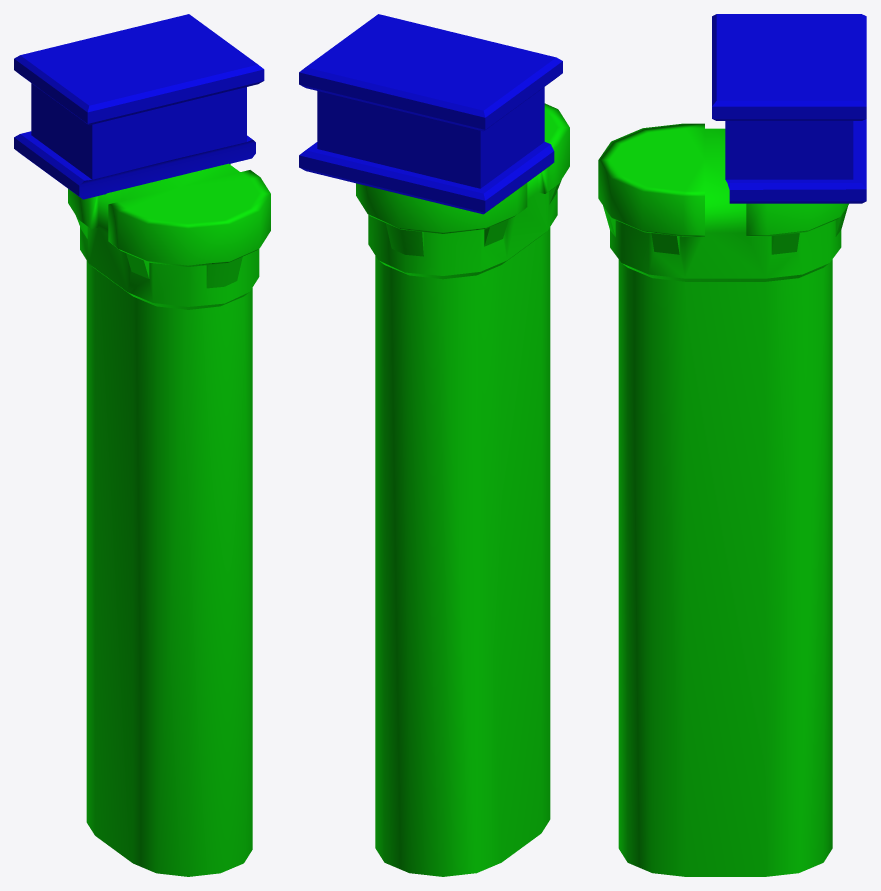
The model's file is colonne_marbre.fbx.
3 views of the same model, side by side, from view 1: azimuth 30°, elevation 25°; view 2: azimuth 150°, elevation 25°; view 3: azimuth 270°, elevation 25° (orthographic). The views are drawn at different scales.
Visible parts, largest first — view 1: arche_Ref128_Ref133, bloc_dessus_colonne:bloc_dessus; view 2: arche_Ref128_Ref133, bloc_dessus_colonne:bloc_dessus; view 3: arche_Ref128_Ref133, bloc_dessus_colonne:bloc_dessus.
Part boxes in pixels (<box>): arche_Ref128_Ref133: <box>68,163,270,876</box>; bloc_dessus_colonne:bloc_dessus: <box>14,14,264,199</box>; arche_Ref128_Ref133: <box>356,103,569,876</box>; bloc_dessus_colonne:bloc_dessus: <box>299,14,562,214</box>; arche_Ref128_Ref133: <box>598,123,848,876</box>; bloc_dessus_colonne:bloc_dessus: <box>712,14,866,203</box>.
Bounding box in the file's own units: 82.47 × 336 × 103.
